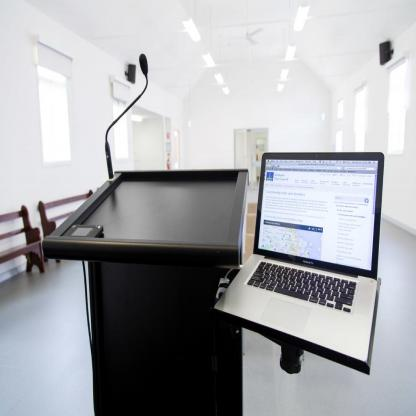board: (224, 144, 385, 376)
